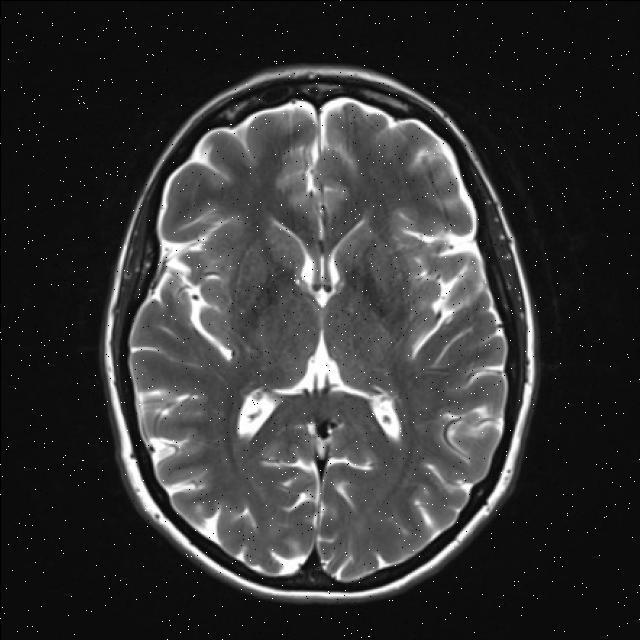No_Tumor: (105, 67, 535, 601)
